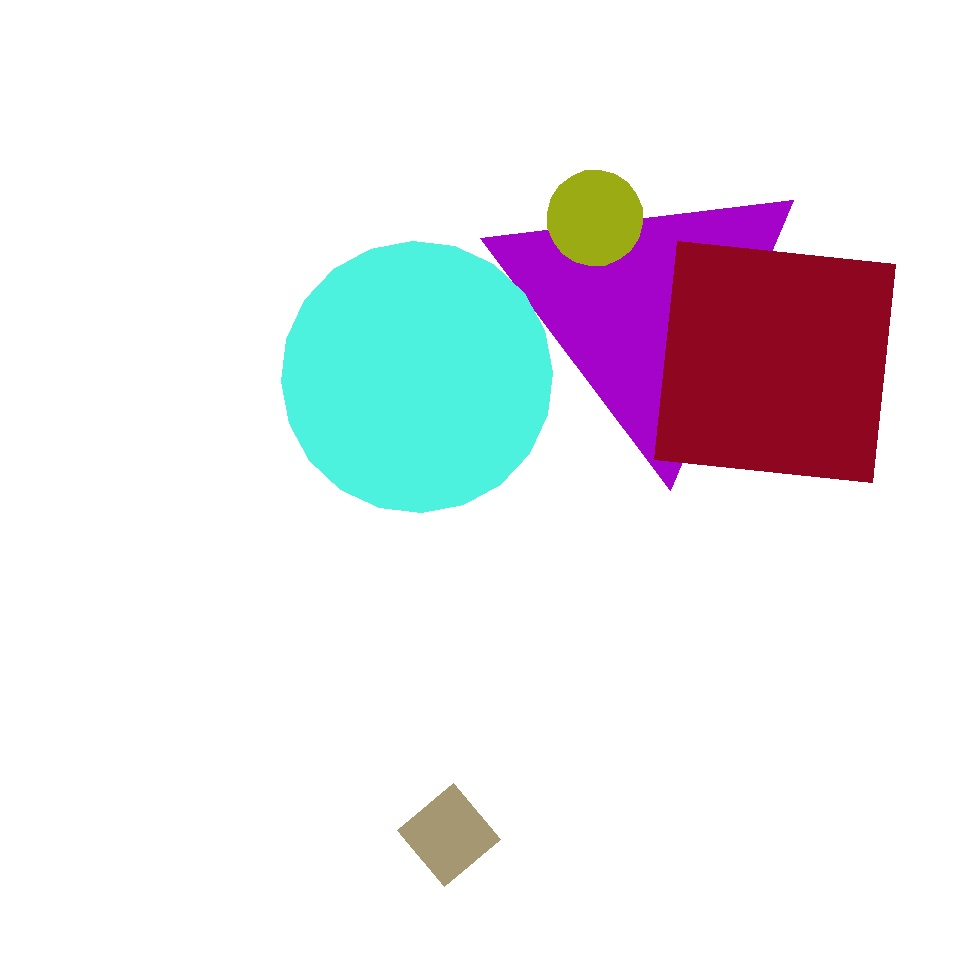circle: (492, 165, 805, 455), (54, 356, 342, 670), (357, 612, 469, 730)
square: (654, 242, 895, 482), (398, 784, 500, 886)
triangle: (301, 502, 678, 880), (282, 242, 552, 512), (214, 689, 394, 868), (548, 170, 642, 266)
